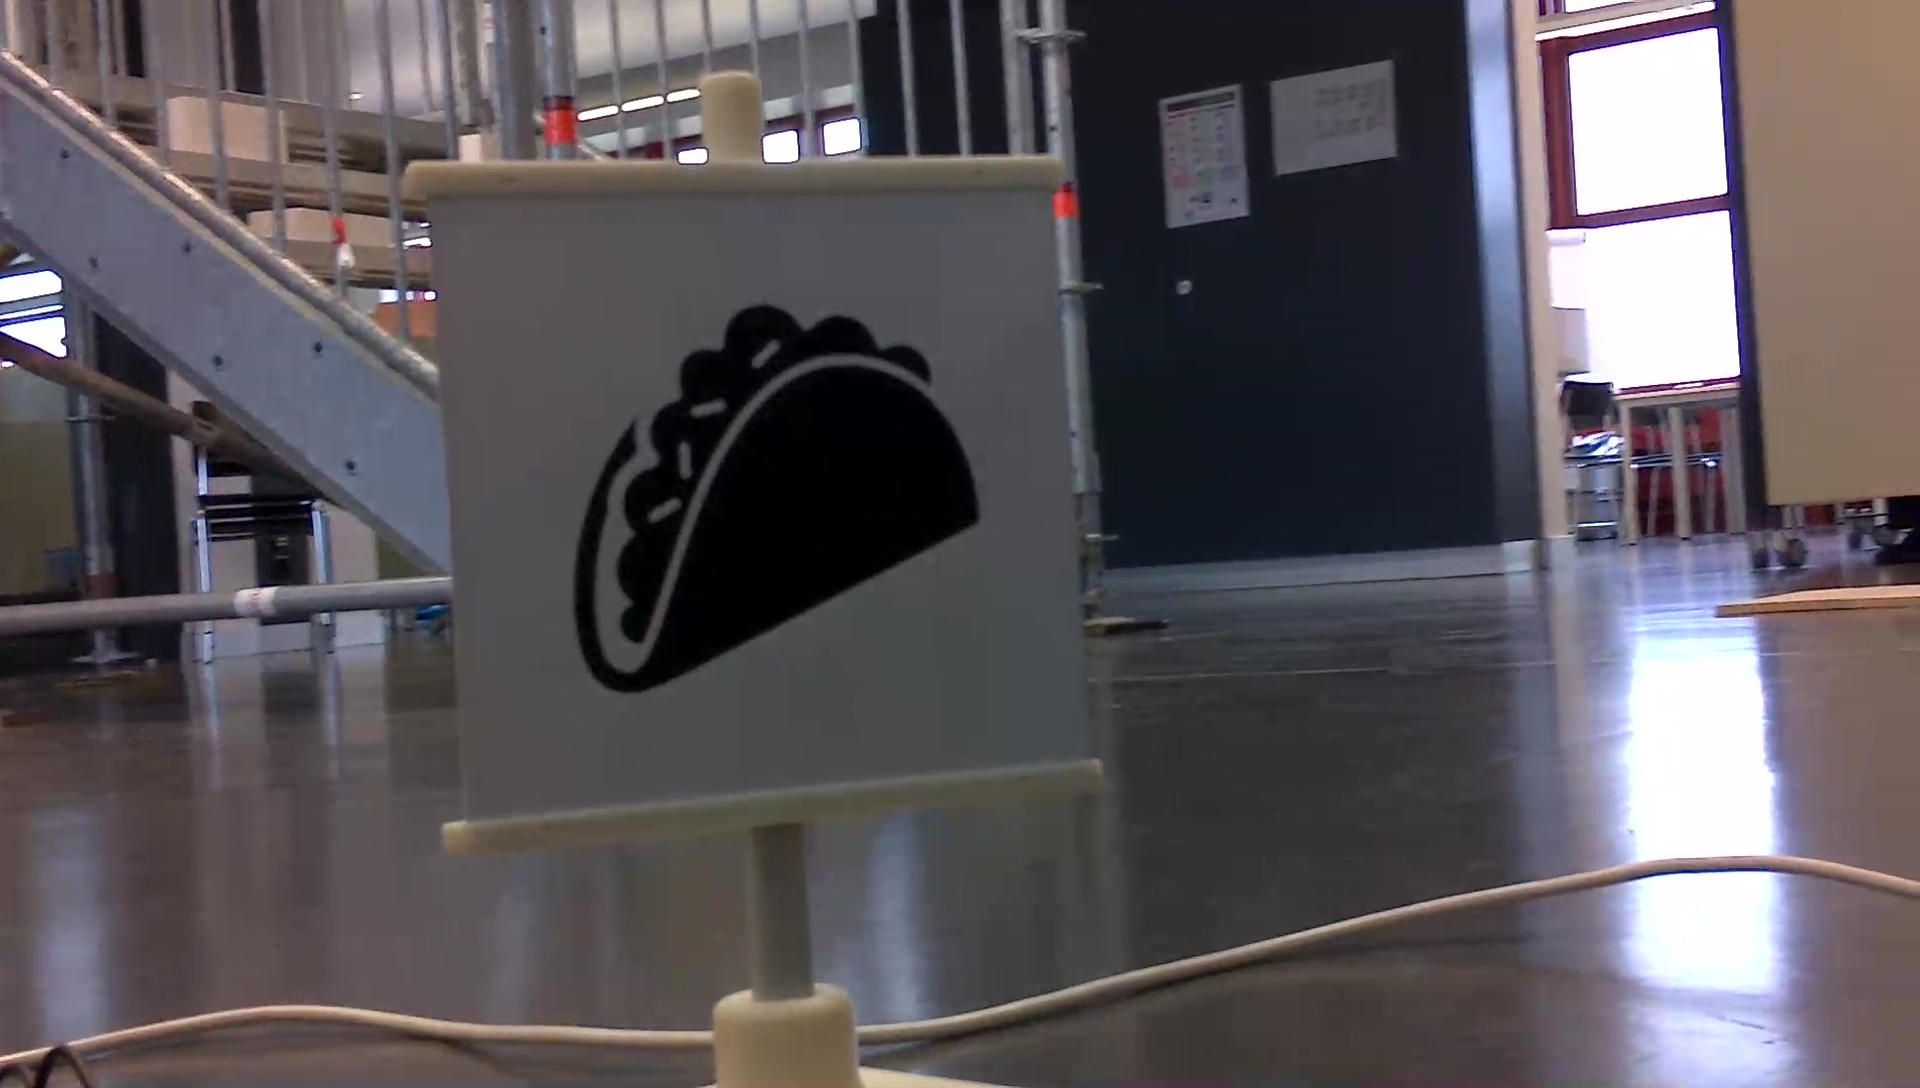taco: (556, 293, 997, 706)
